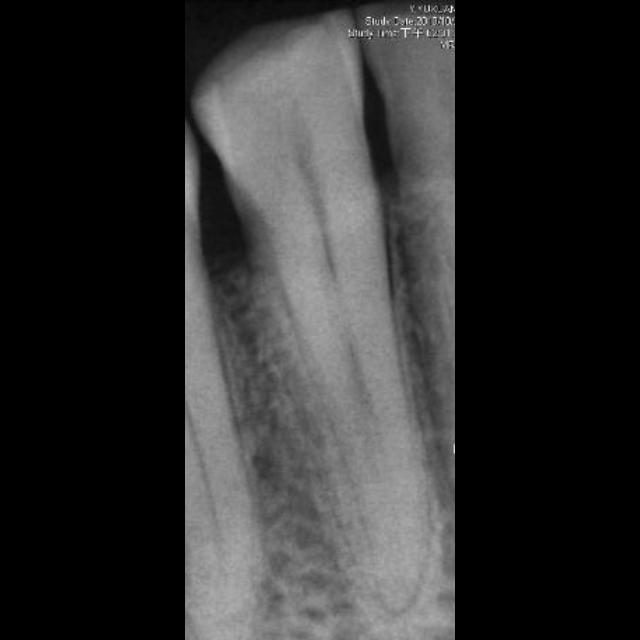tooth: (190, 8, 427, 612)
